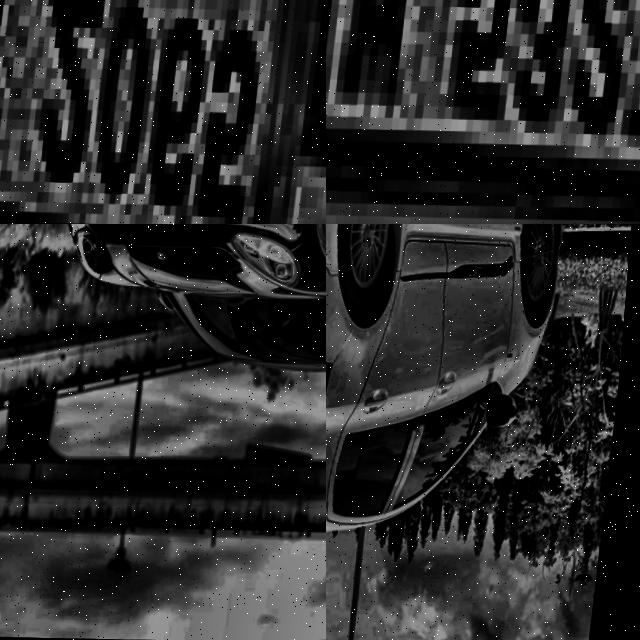license-plate: (0, 0, 326, 224), (326, 0, 640, 224)
